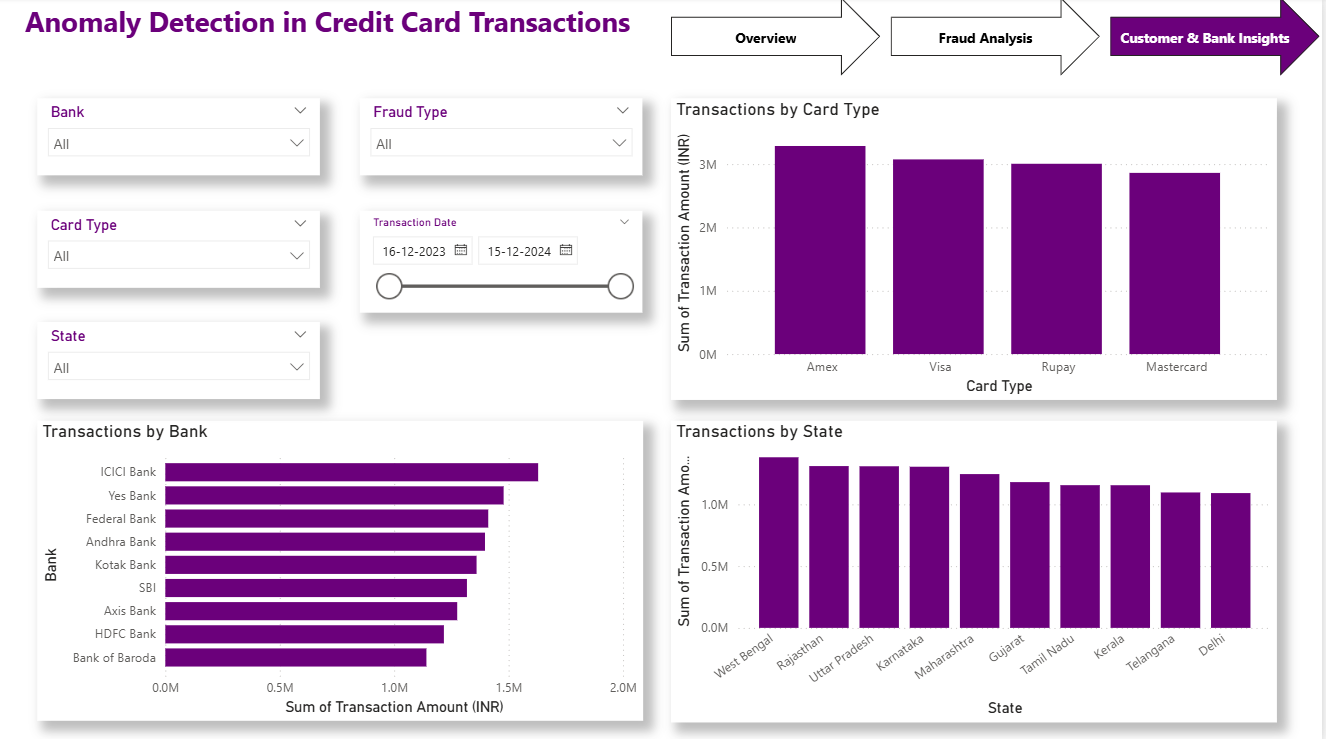

The dashboard page shown, as its layout file describes it:
{"tool":"powerbi","page":{"name":"Customer & Bank Insights","canvas":[1280,720],"ordinal":2},"visuals":[{"type":"textbox","box":[23.3,0,616.1,67.2],"z":0},{"type":"pageNavigator","box":[651.5,0,628.5,76.8],"z":1000},{"type":"barChart","title":"Transactions by Bank","fields":{"Category":["Credit Card Fraud Risk Analysis.Bank"],"Y":["Sum(Credit Card Fraud Risk Analysis.Transaction Amount (INR))"]},"box":[39.8,408.9,584.6,289.5],"z":2000},{"type":"columnChart","title":"Transactions by Card Type","fields":{"Category":["Credit Card Fraud Risk Analysis.Card Type"],"Y":["Sum(Credit Card Fraud Risk Analysis.Transaction Amount (INR))"]},"box":[651.8,97.4,584.6,290.9],"z":3000},{"type":"columnChart","title":"Transactions by State","fields":{"Category":["Credit Card Fraud Risk Analysis.State"],"Y":["Sum(Credit Card Fraud Risk Analysis.Transaction Amount (INR))"]},"box":[651.8,408.9,584.6,290.9],"z":4000},{"type":"slicer","fields":{"Values":["Credit Card Fraud Risk Analysis.Transaction Date"]},"box":[351.3,205.8,273.1,98.8],"z":5000},{"type":"slicer","fields":{"Values":["Credit Card Fraud Risk Analysis.Bank"]},"box":[39.8,97.4,273.1,74.1],"z":6000},{"type":"slicer","fields":{"Values":["Credit Card Fraud Risk Analysis.State"]},"box":[39.8,314.2,273.1,74.1],"z":7000},{"type":"slicer","fields":{"Values":["Credit Card Fraud Risk Analysis.Card Type"]},"box":[39.8,205.8,273.1,74.1],"z":8000},{"type":"slicer","fields":{"Values":["Credit Card Fraud Risk Analysis.Fraud Type"]},"box":[351.3,97.4,273.1,74.1],"z":9000}]}

Visuals, with their boxes in screenshot pixels (x1, y1, x2, y2), scaled from the page's 1280x720 canvas onto the 1326x739 screenshot:
textbox: [left=24, top=0, right=662, bottom=69]
pageNavigator: [left=675, top=0, right=1325, bottom=79]
"Transactions by Bank" barChart: [left=41, top=420, right=647, bottom=717]
"Transactions by Card Type" columnChart: [left=675, top=100, right=1281, bottom=399]
"Transactions by State" columnChart: [left=675, top=420, right=1281, bottom=718]
slicer - Credit Card Fraud Risk Analysis.Transaction Date: [left=364, top=211, right=647, bottom=313]
slicer - Credit Card Fraud Risk Analysis.Bank: [left=41, top=100, right=324, bottom=176]
slicer - Credit Card Fraud Risk Analysis.State: [left=41, top=322, right=324, bottom=399]
slicer - Credit Card Fraud Risk Analysis.Card Type: [left=41, top=211, right=324, bottom=287]
slicer - Credit Card Fraud Risk Analysis.Fraud Type: [left=364, top=100, right=647, bottom=176]
